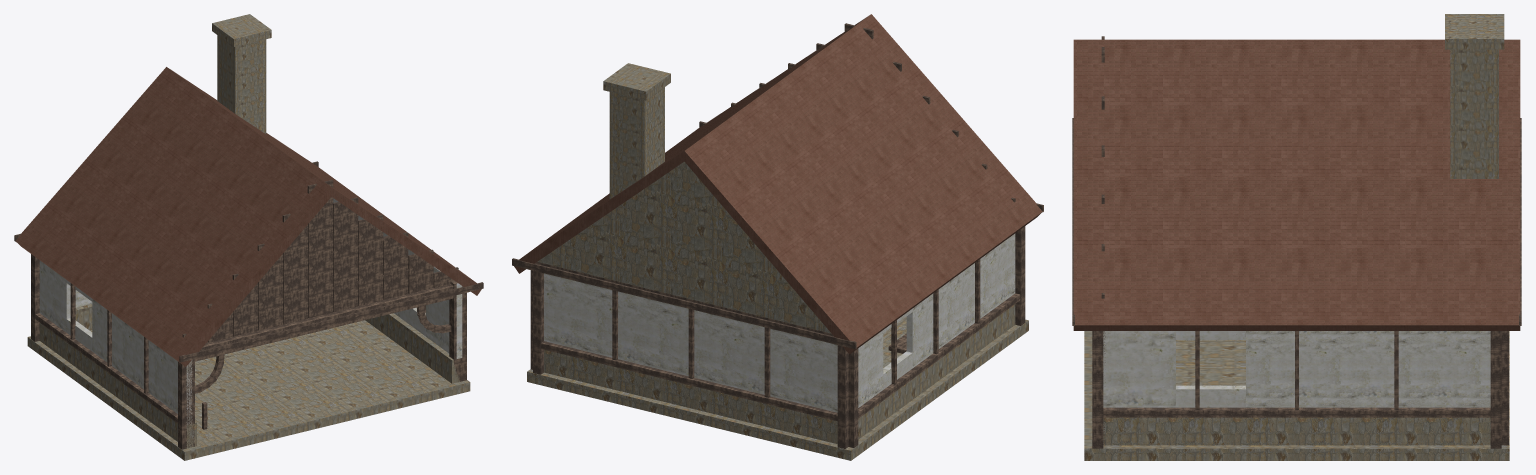
Rendered from prop_smithy_v2.glb.
3 renders of one model, left to right at view 1: azimuth 30°, elevation 25°; view 2: azimuth 150°, elevation 25°; view 3: azimuth 270°, elevation 25°, orthographic. The views are drawn at different scales.
Visible parts, largest first — view 1: building_smithy_v2; view 2: building_smithy_v2; view 3: building_smithy_v2.
Boxes of the visible parts, x1,y1,x2,y2 form: building_smithy_v2: (14,14,483,460); building_smithy_v2: (512,14,1043,460); building_smithy_v2: (1072,14,1521,460).
Size of the model in its own units: 8.8 by 7.8 by 8.35.
Materials: 6 (5 with a texture image).
